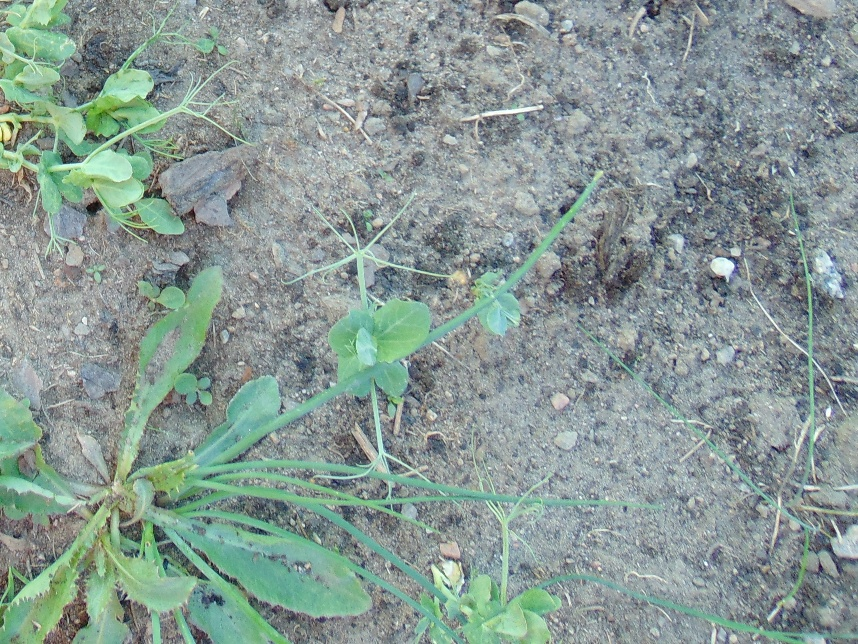crop: (1, 1, 217, 238), (310, 220, 435, 486), (416, 490, 547, 644), (466, 272, 526, 334)
weed: (1, 382, 363, 644), (84, 262, 286, 553), (137, 276, 185, 320), (173, 366, 221, 410)
